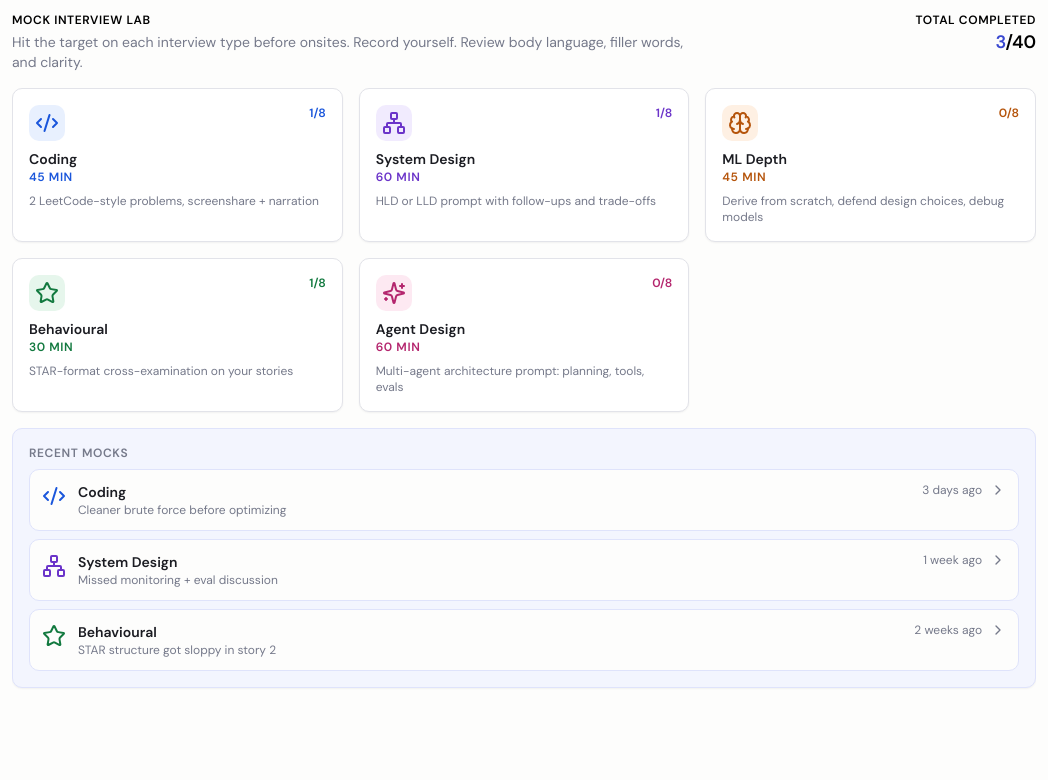
MockInterviewLab agent design session › starts the live agent design screen with tailored prompt and checklist
Click the button with aria-label "Start Agent Design": (394, 293) [359, 258, 689, 412]
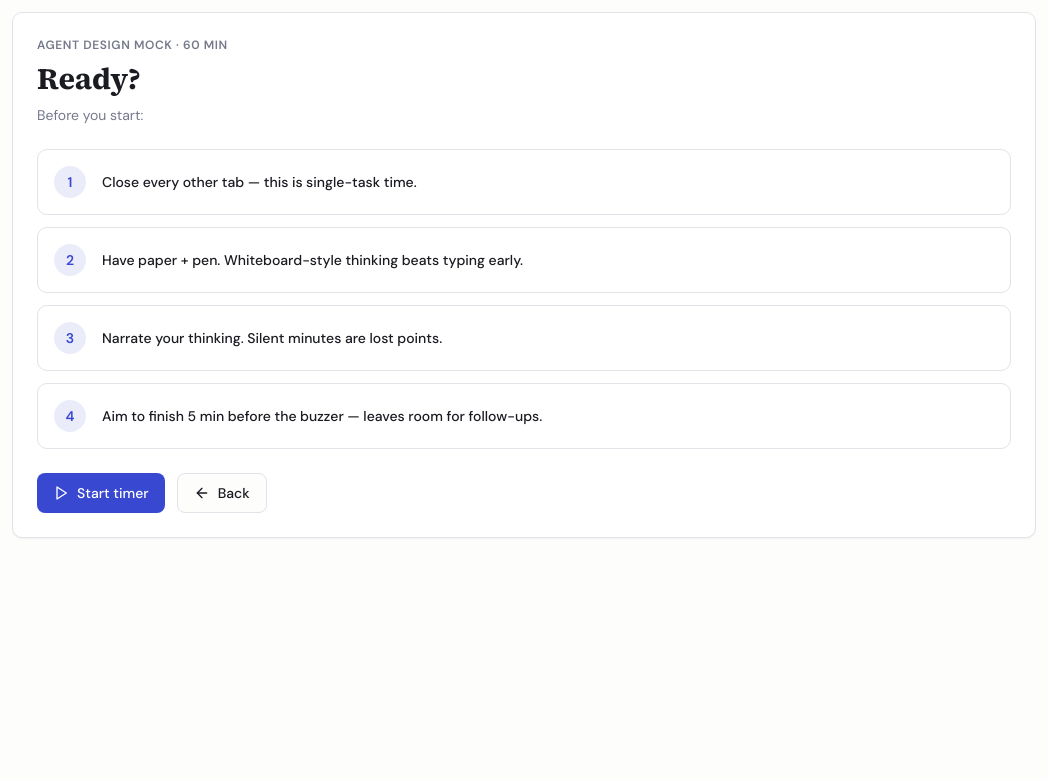
Click the button "Start timer": (101, 493) [37, 473, 165, 513]
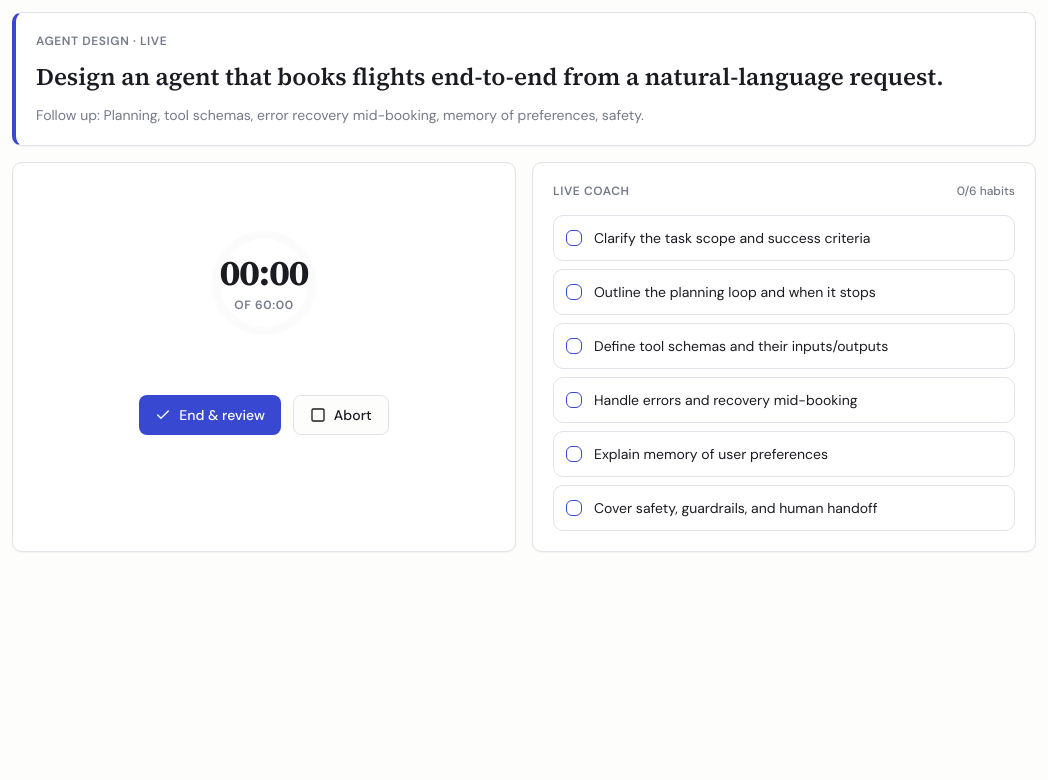
Expected: the text "Agent Design · Live" is shown, [36, 33, 167, 49]
Expected: the heading "Design an agent that books flights end-to-end" is shown, [36, 61, 1015, 93]
Expected: the text "error recovery mid-booking" is shown, [104, 106, 644, 124]
